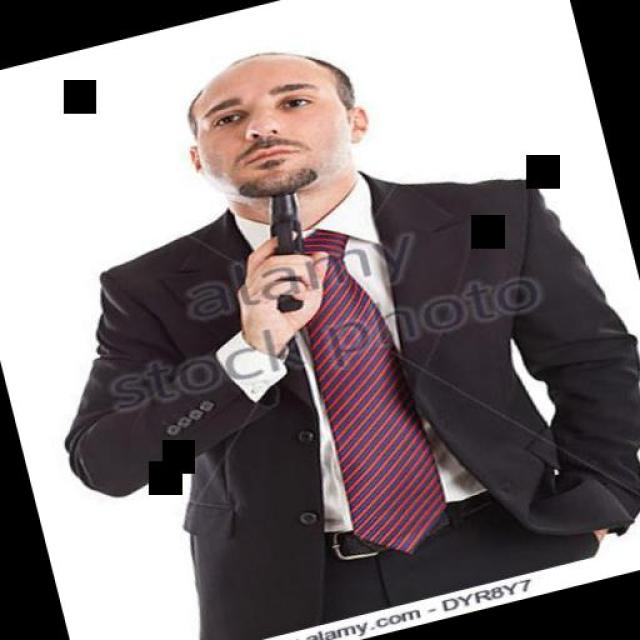gun: (246, 185, 335, 317)
